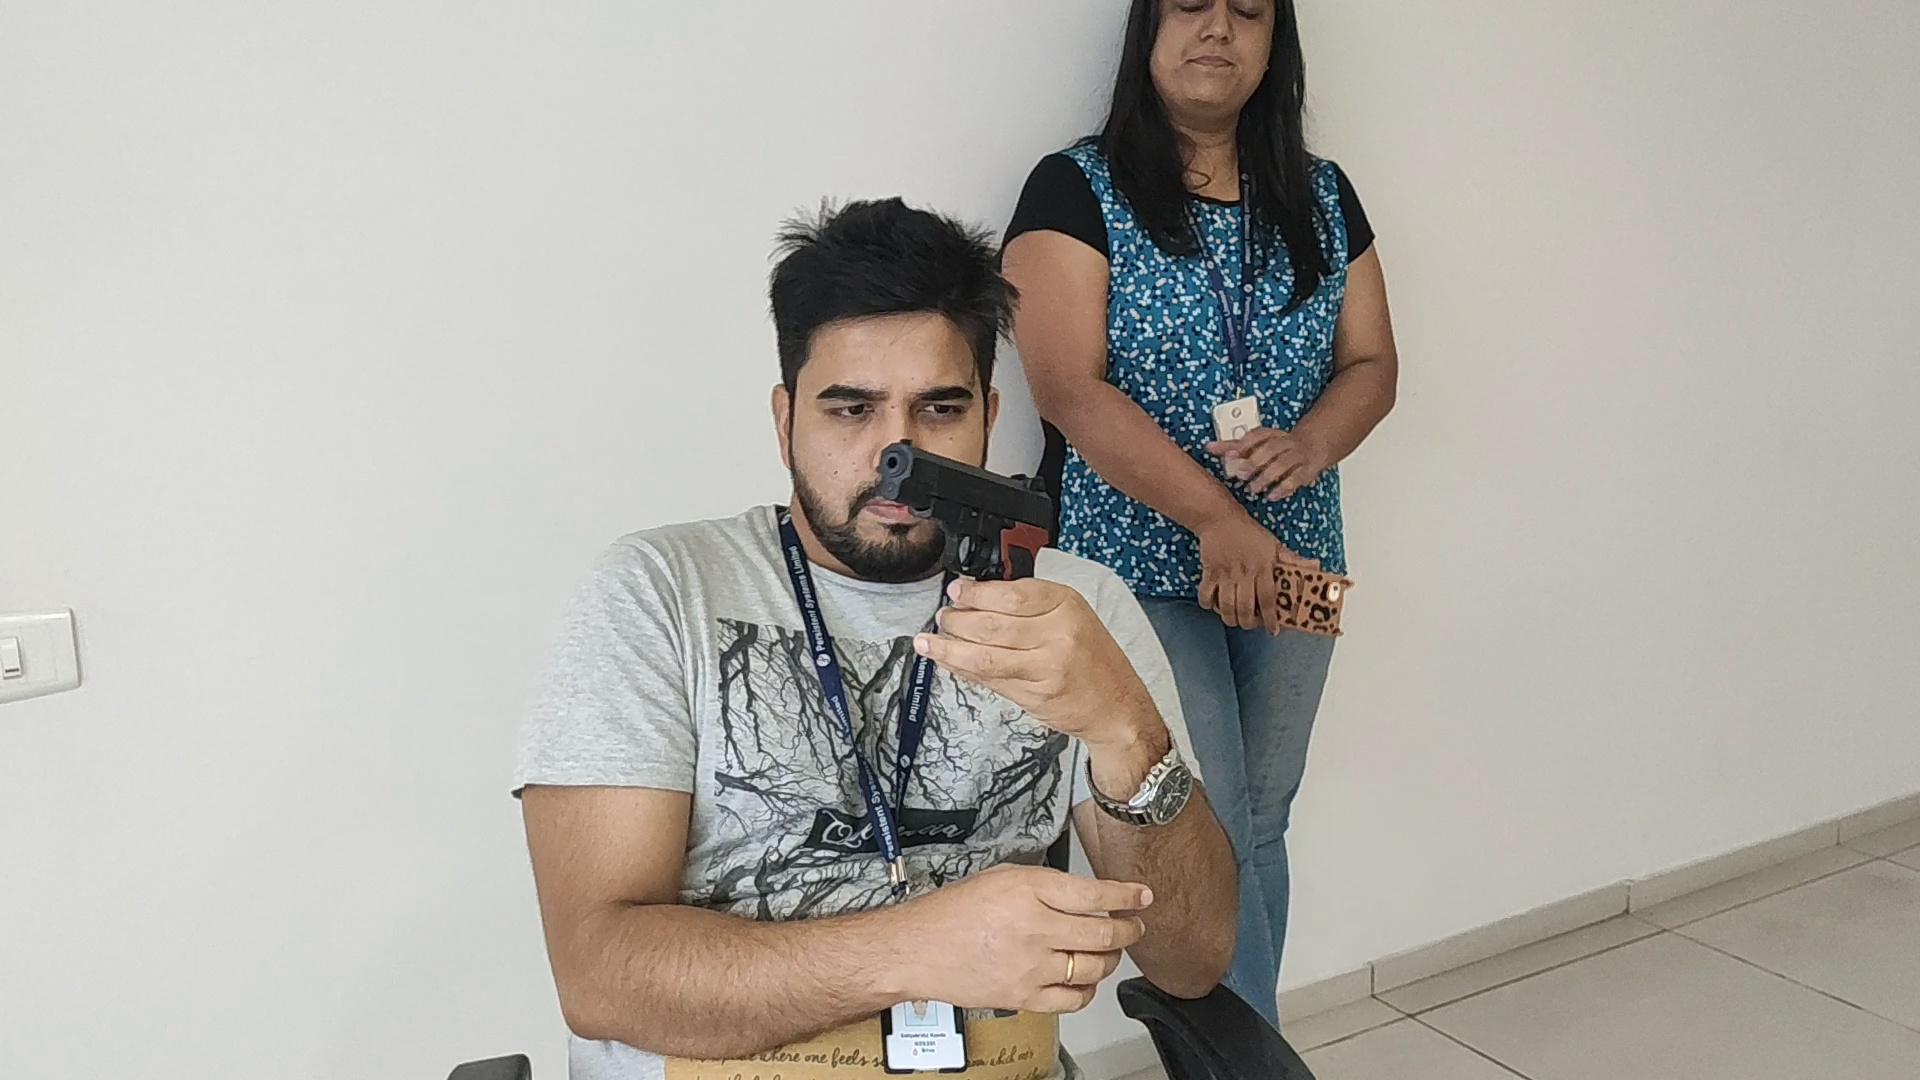gun: (880, 436, 1054, 576)
